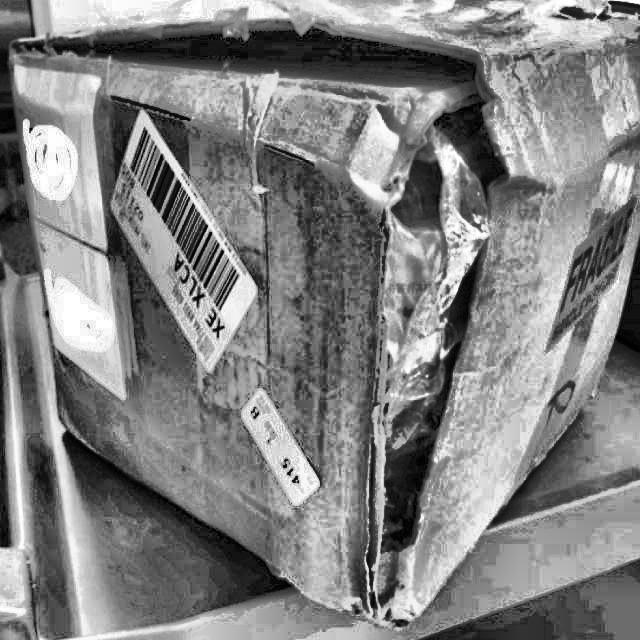box: (11, 0, 639, 633)
hole: (364, 93, 502, 561)
